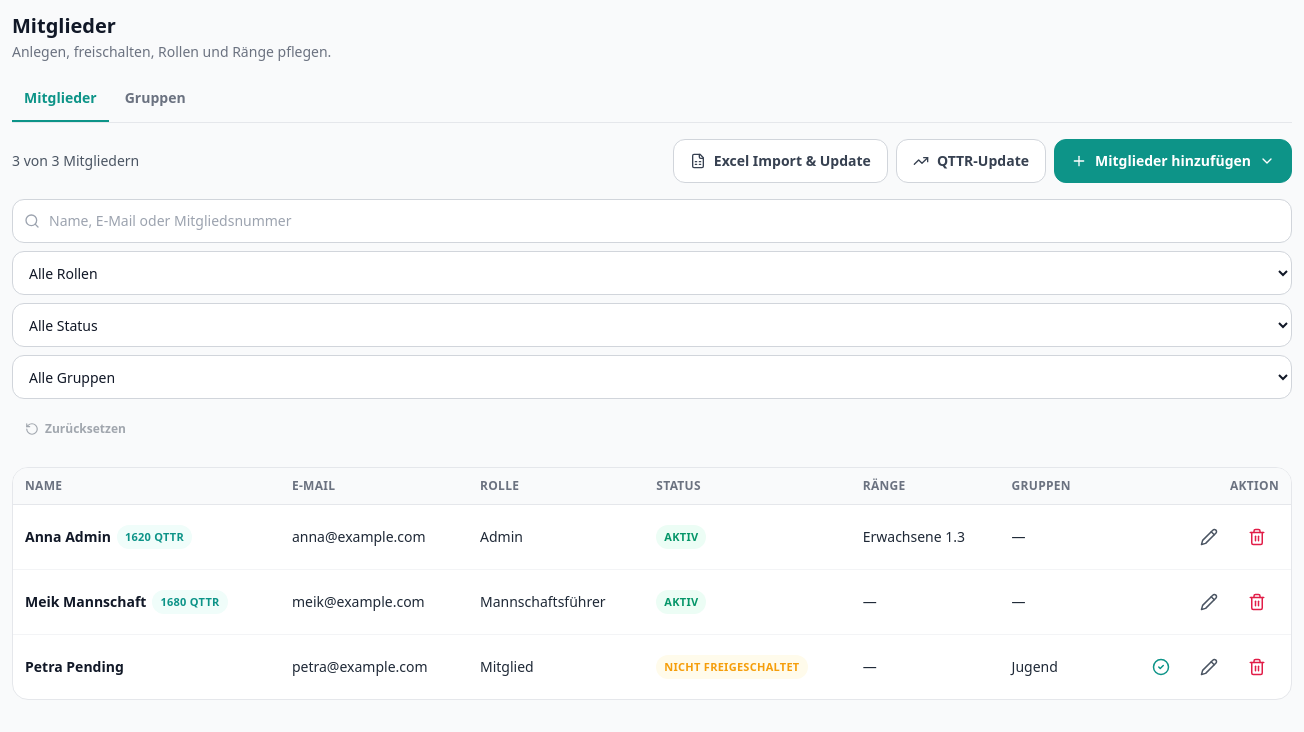
Test: MembersPage › filtert nach Rolle
Select "Admin" in the dropdown named "Rolle" at (652, 273), box [12,251,1292,295]
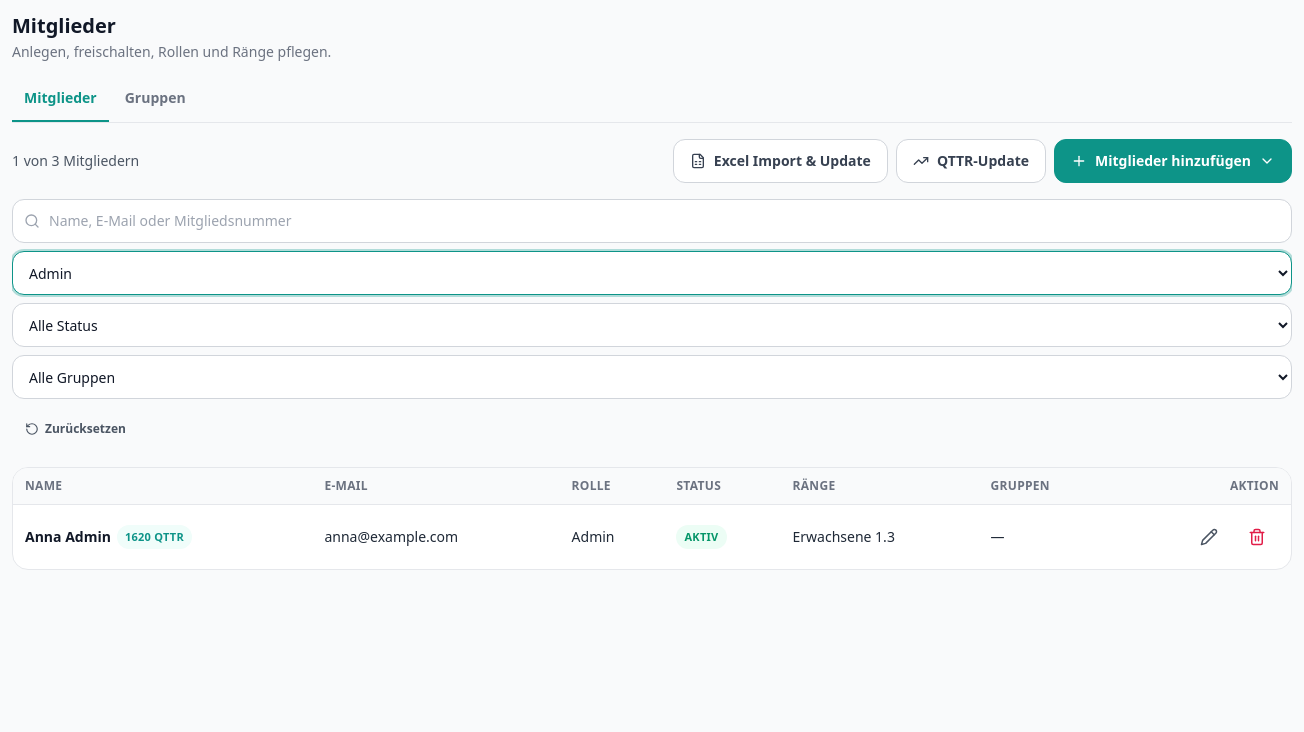
Result: the text "1 von 3 Mitgliedern" is shown at [12,151,139,171]
Result: the text "Meik Mannschaft" is gone
